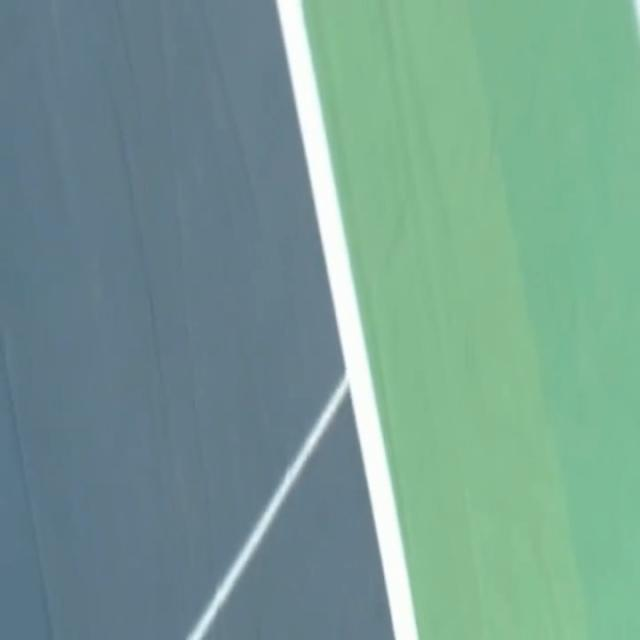right: (277, 0, 417, 639)
